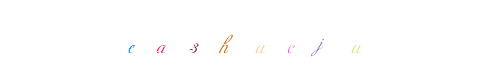3: (154, 0, 234, 80)
A: (132, 0, 212, 80)
C: (213, 0, 293, 80)
E: (90, 0, 170, 80)
H: (185, 0, 265, 80)
J: (219, 0, 299, 80)
U: (205, 0, 285, 80), (228, 0, 308, 80)
